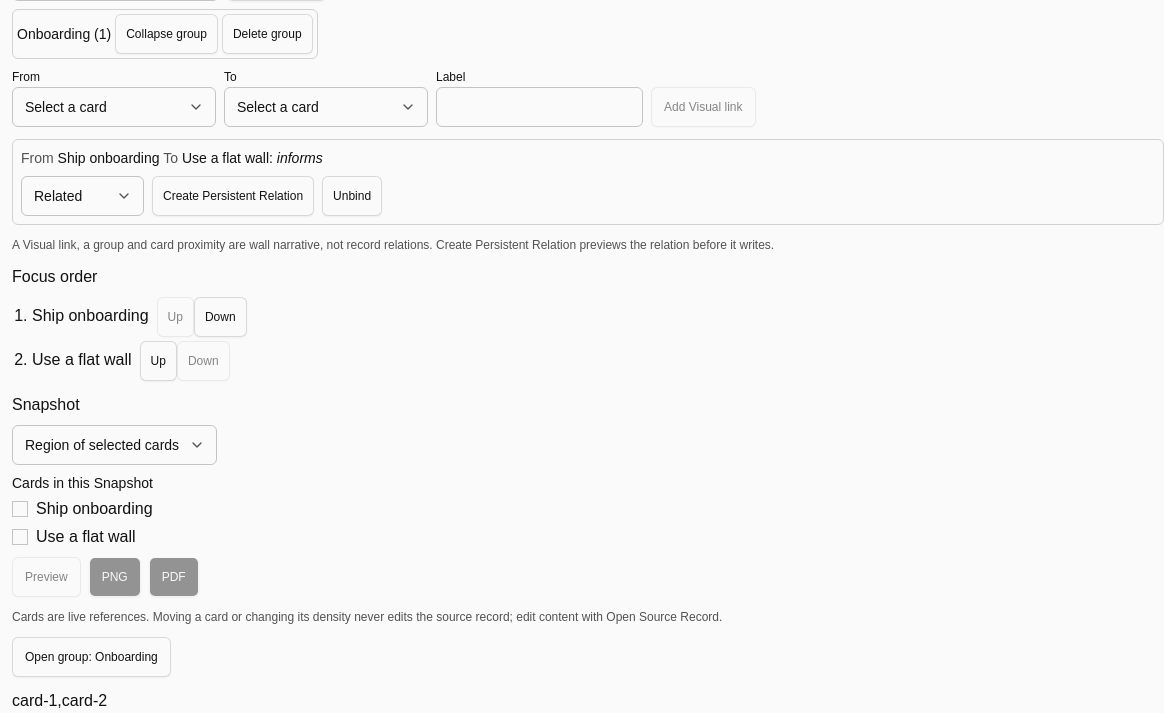
Scenario: Project Wall in-wall group navigation › Open group focuses the canvas on that group and Show full wall returns
(page scrolled)
Expected: the text with test id "shown" reads "card-1,card-2", [12,692,107,709]
Click the button "Open group: Onboarding" at (91, 657), box [12,637,171,677]
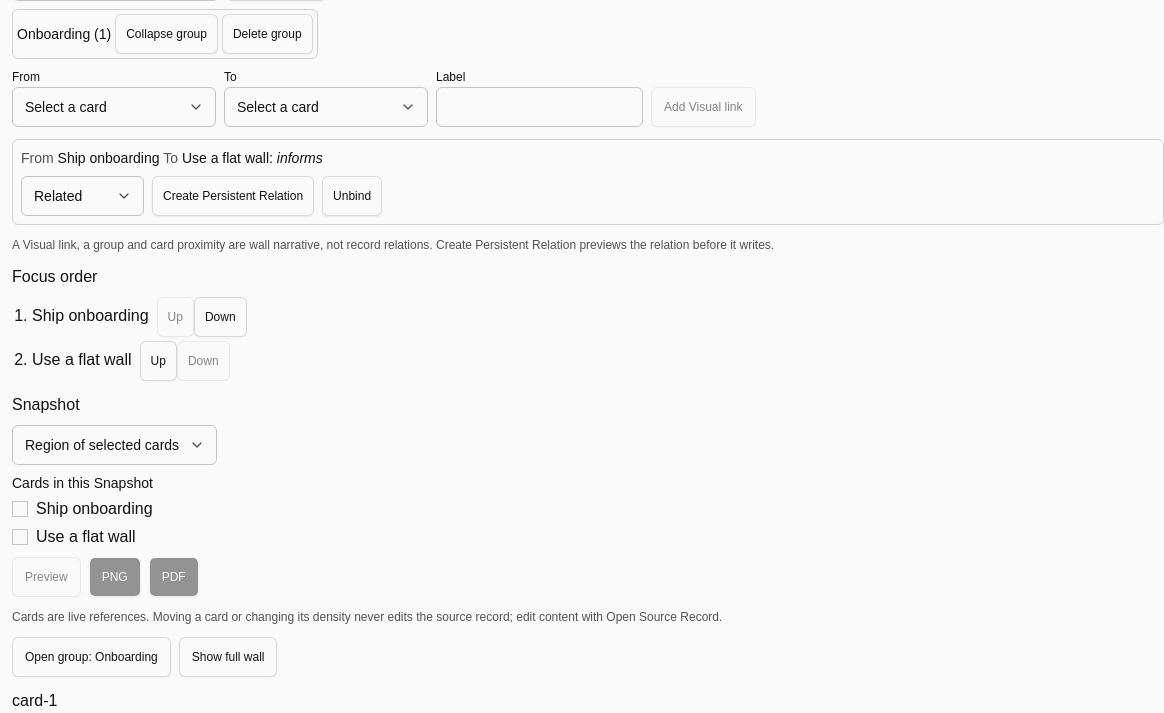
Expected: the text with test id "shown" reads "card-1", [12,692,57,709]
Click the button "Show full wall" at (228, 657), box [179,637,278,677]
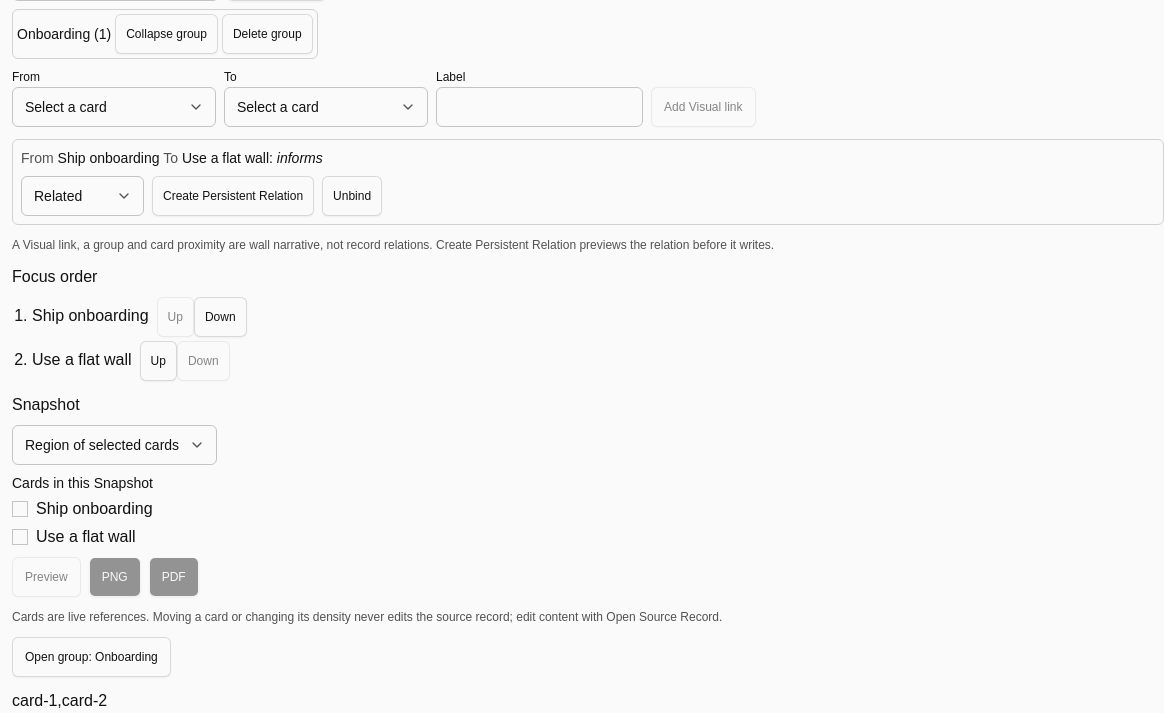
Expected: the text with test id "shown" reads "card-1,card-2", [12,692,107,709]
